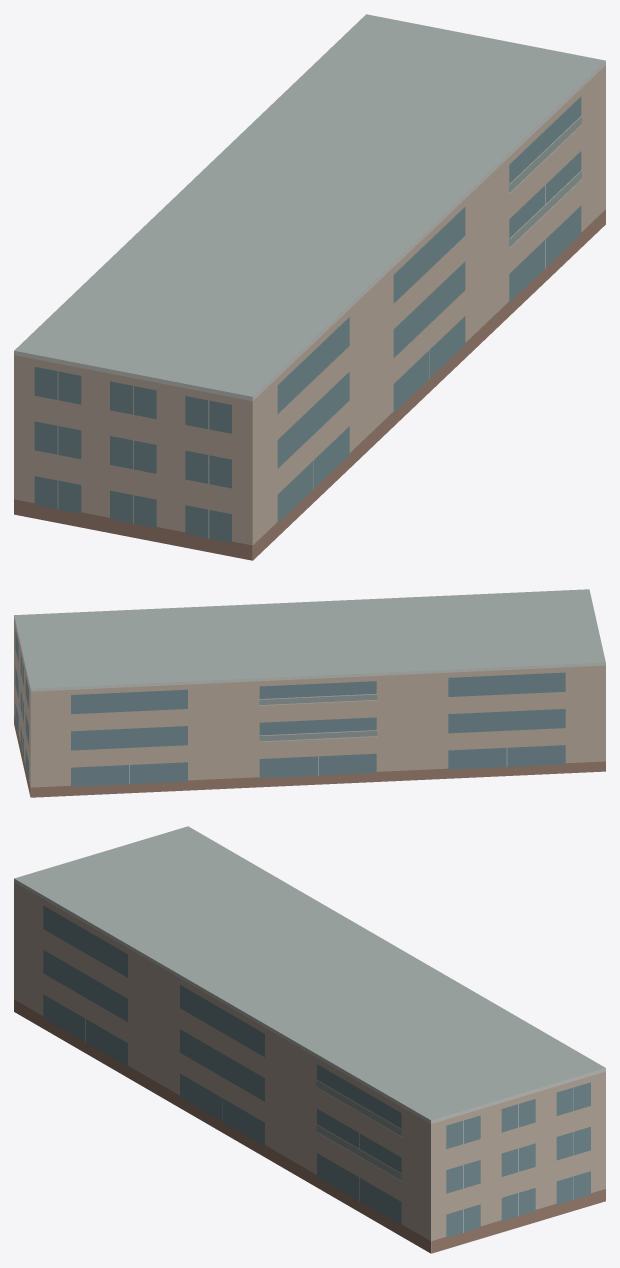
The model's file is survey-upis-32632699.glb.
The picture shows the model from 3 angles, top to bottom: view 1: azimuth 30°, elevation 25°; view 2: azimuth 150°, elevation 25°; view 3: azimuth 270°, elevation 25°; orthographic projection. The views are drawn at different scales.
Visible parts, largest first — view 1: survey-upis-32632699.tmp; view 2: survey-upis-32632699.tmp; view 3: survey-upis-32632699.tmp.
Part boxes in pixels (x1=…): survey-upis-32632699.tmp: x1=14, y1=14, x2=605, y2=560; survey-upis-32632699.tmp: x1=14, y1=589, x2=605, y2=797; survey-upis-32632699.tmp: x1=14, y1=826, x2=605, y2=1253.
Bounding box in the file's own units: 43.33 × 9.15 × 36.83.
